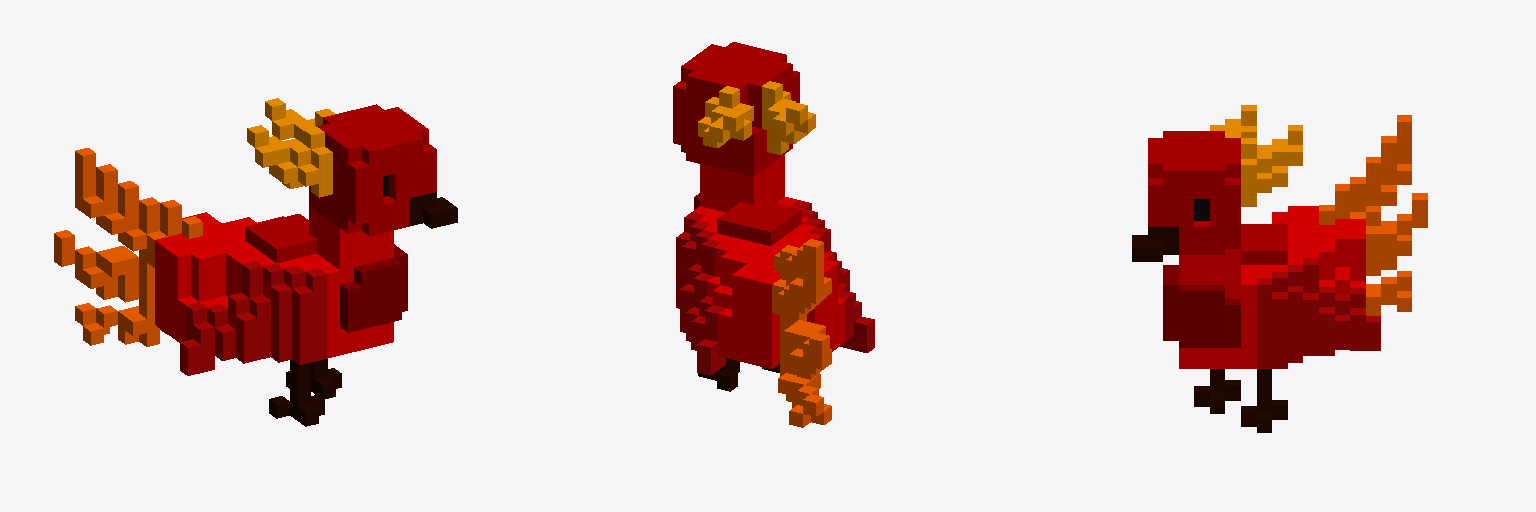
The picture shows the model from 3 angles: view 1: azimuth 30°, elevation 25°; view 2: azimuth 150°, elevation 25°; view 3: azimuth 270°, elevation 25°; orthographic projection.
Visible parts, largest first — view 1: object 1; view 2: object 1; view 3: object 1.
Boxes of the visible parts, box(x1,y1,x2,y2) form: object 1: box(54, 98, 457, 426); object 1: box(673, 42, 874, 427); object 1: box(1132, 105, 1427, 432).
Size of the model in its own units: 1.9 by 2 by 1.9.
Materials: 1 (1 with a texture image).